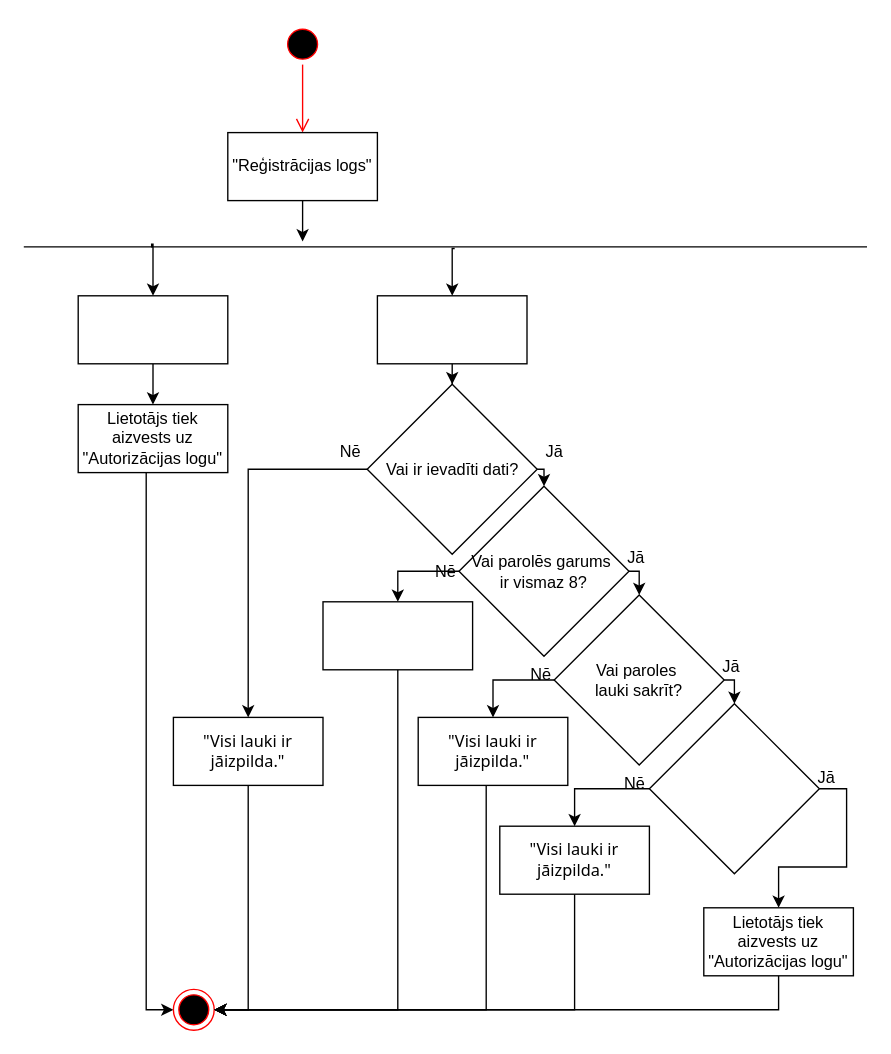
Some shapes in this 891 by 1054 pixel diagram are drawn without their labels. The shapes that lost their labels are listed below. From the top down, each one's centre as x and y in pixels, then its label:
point 152,329: Nospiesta poga "Esi reģistrējies?"
point 451,329: Nospiesta poga "Reģistrēties"
point 397,635: "Paroles garums ir jābūt vismaz 8."
point 733,788: Vai lietotajvārds ir unikāls?
